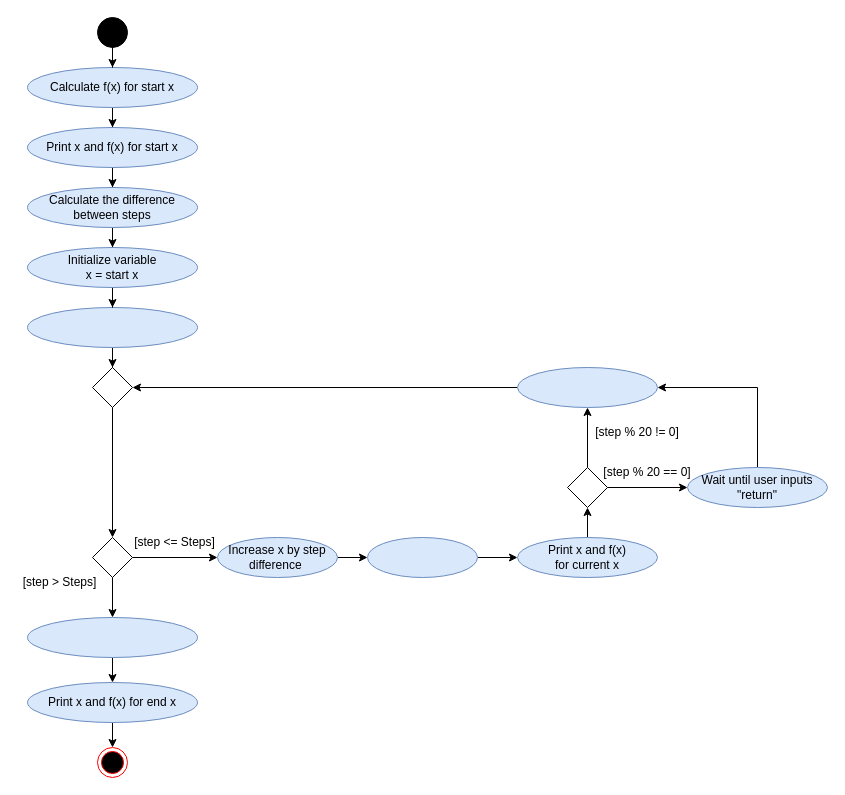
Some shapes in this 845 by 795 pixel diagram are drawn without their labels. Each missing label, with the box of its shape:
Calculate f(x) for current x: (366, 536, 478, 578)
Calculate f(x) for end x: (26, 616, 198, 658)
Increment step: (516, 366, 658, 408)
Initialize variable step = 1: (26, 306, 198, 348)
